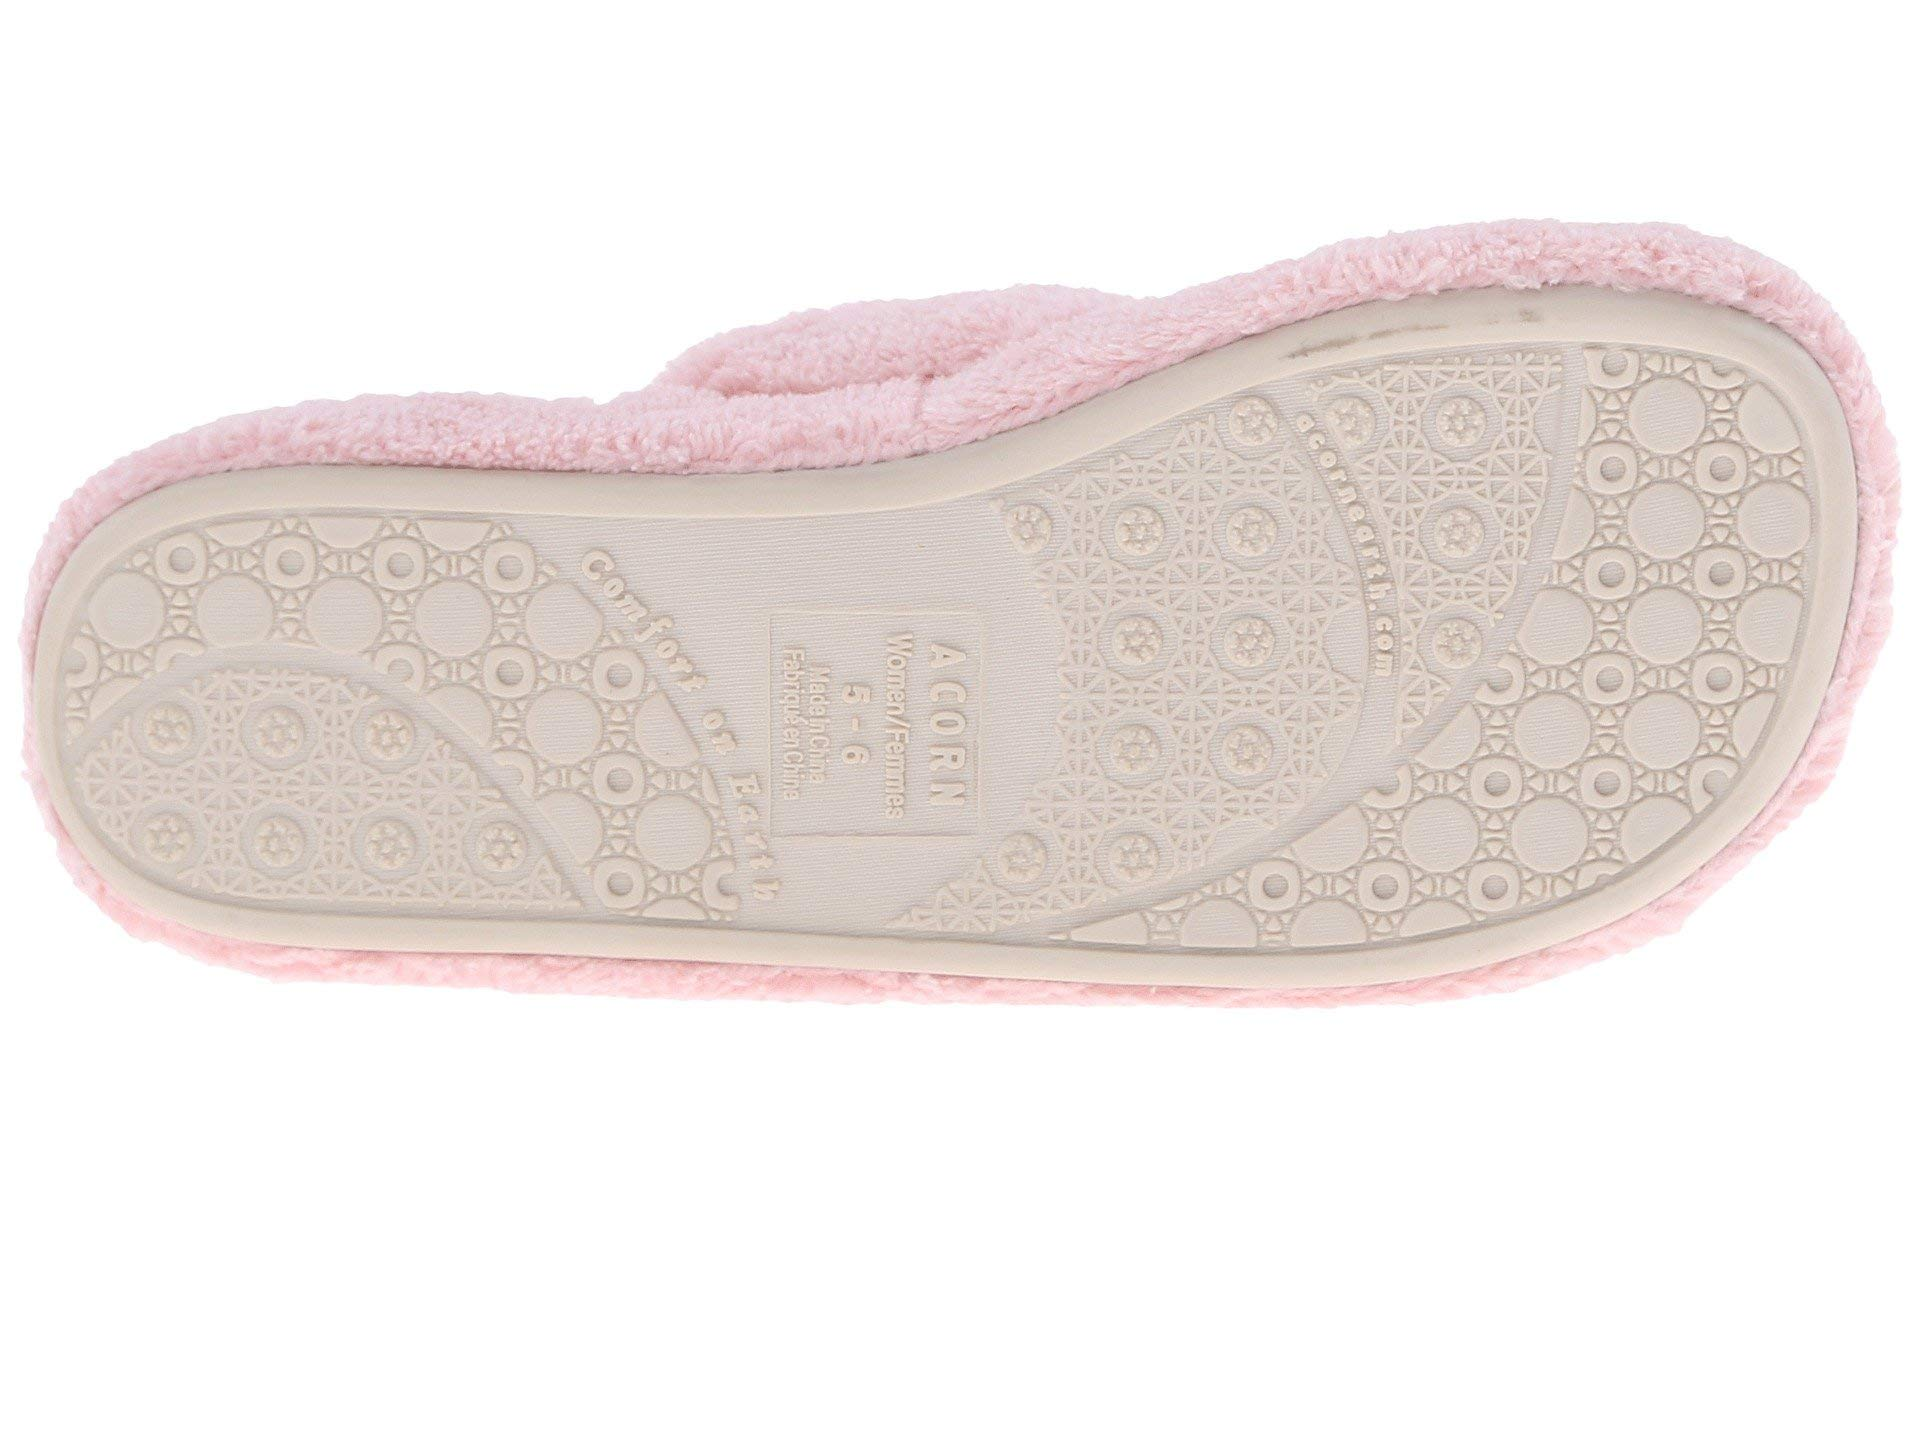circle: (1067, 460, 1730, 861), (122, 520, 671, 908), (735, 579, 1016, 871)
quad: (1067, 460, 1730, 861), (122, 520, 671, 908), (735, 579, 1016, 871)
star: (1067, 460, 1730, 861), (122, 520, 671, 908)
text: (1067, 460, 1730, 861), (122, 520, 671, 908), (735, 579, 1016, 871)
triangle: (1067, 460, 1730, 861), (122, 520, 671, 908)
